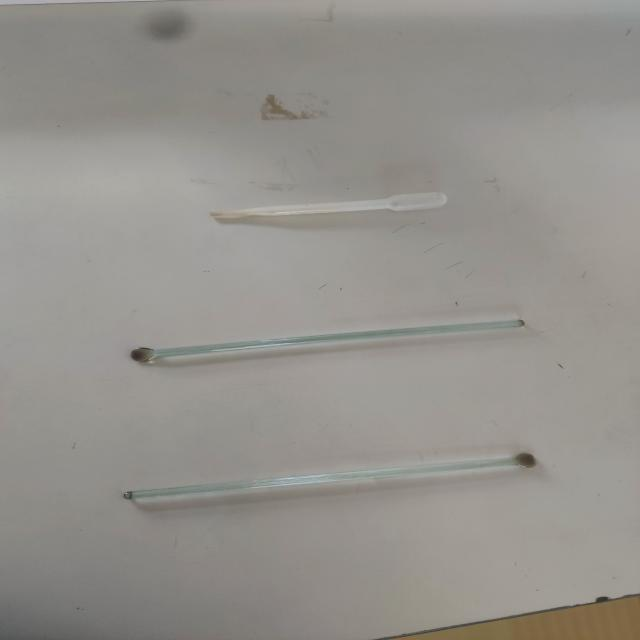Glass_Rod: (88, 293, 558, 390), (88, 446, 570, 526)
Pipette: (180, 164, 468, 242)
